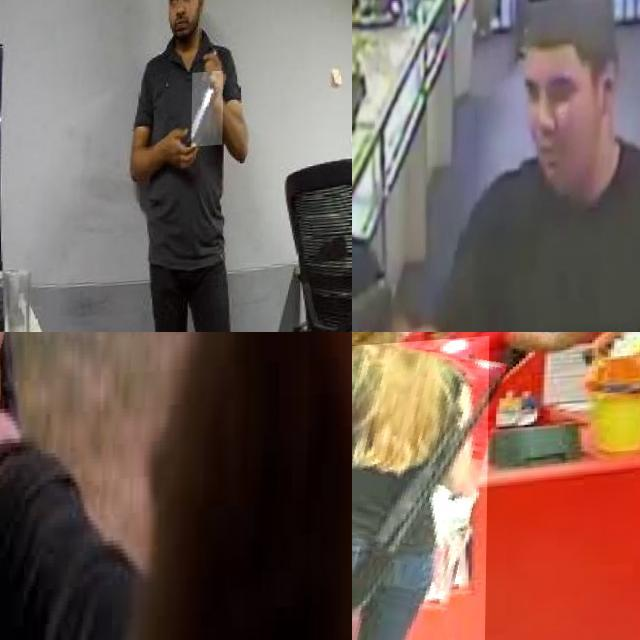-: (192, 74, 224, 150)
gun-knife-thesis - v11 Yolov5 augmented: (352, 343, 490, 640), (352, 119, 432, 258), (0, 332, 51, 545)
